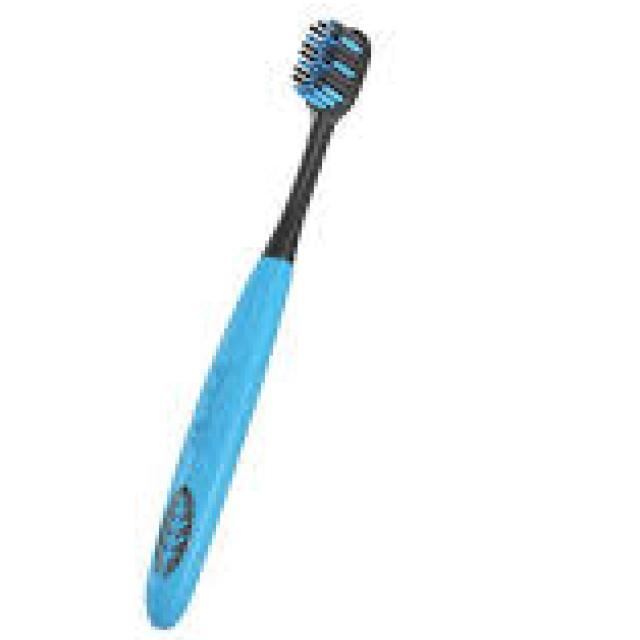organic: (110, 14, 430, 631)
